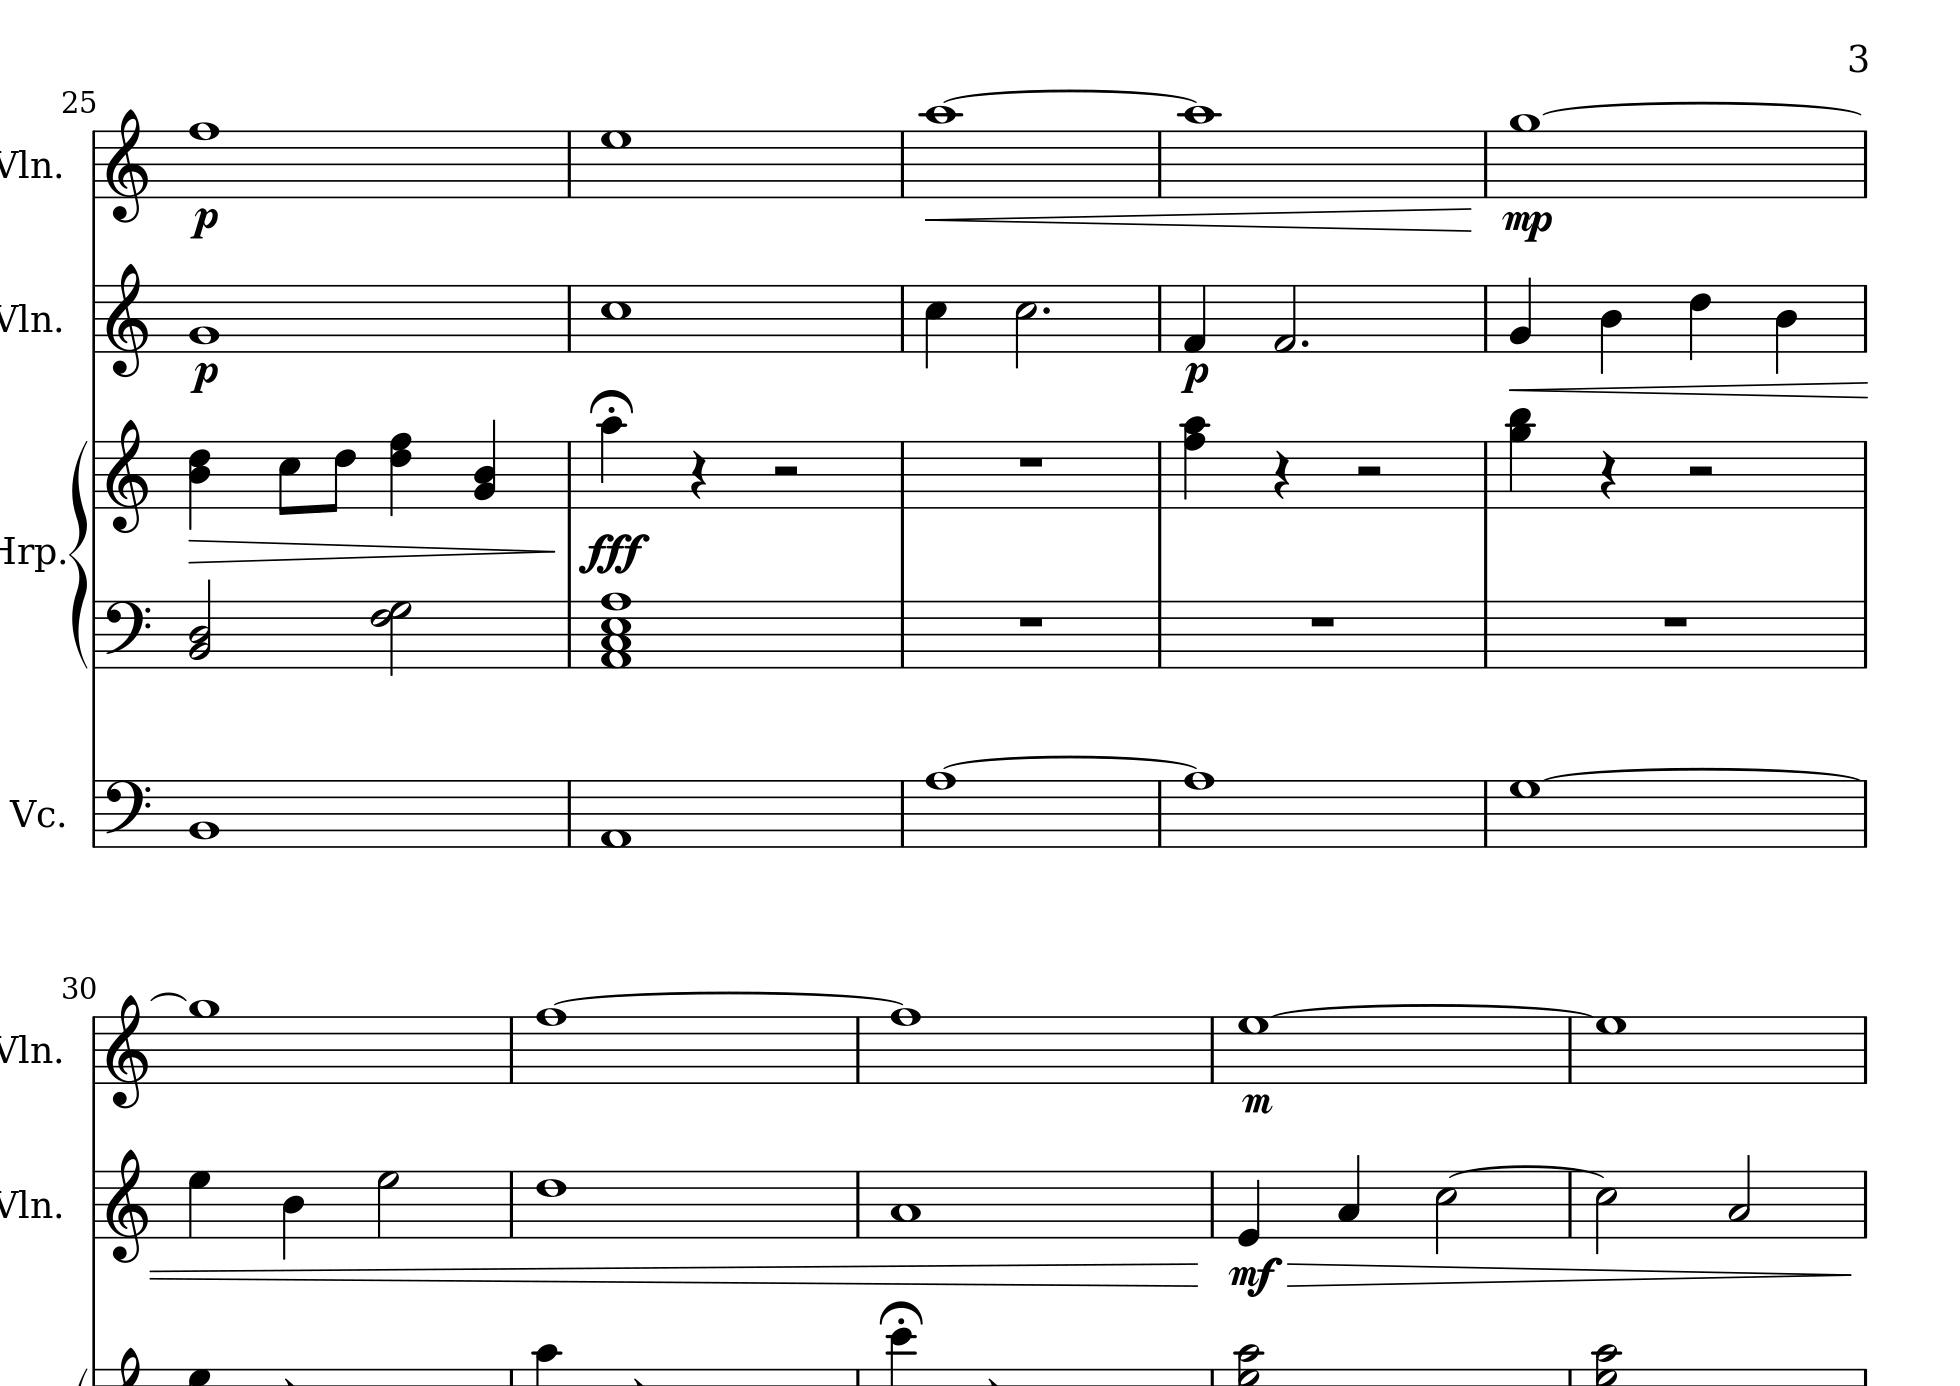0: (79, 973, 96, 1000)
1_1: (598, 777, 633, 852)
1_10: (1180, 103, 1218, 199), (922, 103, 958, 198)
1_2: (186, 775, 222, 850), (187, 282, 220, 355)
1_3: (889, 1168, 921, 1239)
1_4th: (598, 589, 633, 670)
1_5: (598, 283, 631, 355)
1_6: (534, 1168, 568, 1240)
1_7: (1594, 1015, 1629, 1086), (600, 129, 633, 199), (1509, 778, 1542, 849), (1237, 1014, 1270, 1084)
1_8: (922, 768, 958, 850), (534, 1003, 568, 1086), (1182, 769, 1216, 850), (888, 1006, 922, 1086), (187, 118, 220, 199)
1_9: (184, 999, 220, 1086), (1507, 111, 1542, 198)
2: (60, 88, 79, 115)
2_1: (1272, 282, 1299, 355)
2_2_4: (184, 577, 213, 670)
2_3: (1726, 1153, 1753, 1240)
2_5: (1014, 283, 1039, 370), (1434, 1168, 1459, 1255), (1593, 1168, 1618, 1255)
2_6_7: (369, 598, 412, 678)
2_7: (375, 1168, 400, 1239)
3: (1848, 40, 1869, 73), (61, 973, 78, 999)
4_0: (1239, 1167, 1263, 1246)
4_1: (1182, 282, 1209, 354)
4_10: (595, 415, 627, 513)
4_2: (1509, 274, 1536, 355)
4_2_4: (471, 420, 496, 511)
4_3: (1336, 1152, 1362, 1239)
4_4: (1773, 282, 1800, 373), (1599, 283, 1623, 375), (280, 1168, 304, 1257)
4_4_6: (187, 438, 211, 532)
4_5: (922, 283, 948, 372)
4_6: (1687, 282, 1713, 364)
4_6_8: (387, 432, 415, 516)
4_7: (186, 1168, 211, 1239)
4_8_10: (1179, 415, 1210, 510)
4_9_11: (1504, 405, 1537, 510)
5: (79, 85, 97, 115)
8_5: (277, 439, 301, 517)
8_6: (324, 439, 357, 514)
Brace: (67, 439, 90, 667)
Crescendo_hairpin: (925, 205, 1476, 234), (1512, 379, 1872, 402)
Diminuendo_hairpin: (1285, 1261, 1851, 1291), (187, 538, 556, 565)
Fclef: (102, 598, 151, 670), (103, 778, 151, 849)
Fermata_above: (877, 1297, 925, 1327), (586, 387, 636, 415)
Gclef: (103, 415, 148, 535), (103, 261, 148, 379), (103, 1146, 148, 1264), (103, 106, 148, 223), (103, 993, 148, 1108)
Rests1: (1015, 612, 1047, 630), (1015, 453, 1047, 469), (1660, 613, 1692, 630), (1308, 613, 1338, 630)
Rests2: (768, 462, 802, 481), (1353, 462, 1386, 481), (1684, 462, 1716, 481)
Rests4: (1270, 447, 1293, 502), (1597, 447, 1620, 502), (688, 447, 709, 501)
Single_barline: (1855, 1170, 1875, 1237), (559, 130, 579, 196), (892, 285, 912, 351), (559, 601, 579, 667), (559, 778, 579, 844), (559, 441, 577, 507), (1476, 780, 1494, 846), (502, 1015, 520, 1081), (1203, 1015, 1221, 1081), (502, 1170, 520, 1236), (559, 285, 577, 349), (1561, 1017, 1579, 1081), (1561, 1174, 1579, 1237), (85, 130, 102, 198), (1857, 283, 1873, 351), (85, 780, 102, 847), (894, 130, 910, 196), (1477, 130, 1494, 196), (1152, 130, 1168, 196), (1152, 285, 1168, 351), (894, 601, 910, 667), (1152, 601, 1168, 667), (1857, 601, 1873, 667), (1477, 601, 1494, 667), (894, 780, 910, 846), (1857, 1015, 1873, 1081), (849, 1017, 865, 1083), (1477, 285, 1494, 349), (894, 441, 910, 505), (1152, 441, 1168, 505), (1152, 781, 1168, 846), (1857, 781, 1873, 846), (849, 1171, 865, 1236), (87, 285, 102, 351), (1479, 441, 1494, 505), (1206, 1171, 1221, 1236), (88, 439, 102, 507), (88, 600, 102, 667), (87, 1015, 100, 1083), (1858, 130, 1872, 196), (1858, 441, 1872, 507), (88, 1171, 100, 1237), (1857, 1368, 1873, 1384)
Slur: (552, 985, 907, 1009), (1272, 1000, 1584, 1018), (940, 751, 1203, 772), (1545, 763, 1860, 778), (148, 991, 187, 1003)
Vc: (6, 793, 61, 829)
Vln: (1, 1182, 54, 1225), (1, 297, 52, 339), (1, 1027, 52, 1069), (1, 144, 54, 184)
dot: (1039, 303, 1053, 316), (1299, 336, 1311, 348)
fff: (577, 529, 652, 576)
m: (1242, 1092, 1273, 1114)
mf: (1227, 1254, 1284, 1296)
mp: (1500, 205, 1554, 243)
p: (1179, 360, 1210, 394), (189, 360, 219, 396), (189, 207, 217, 241)
